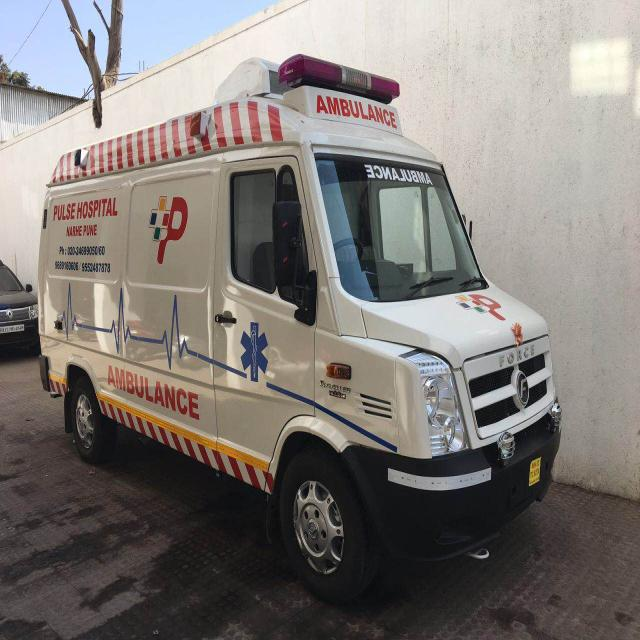ambulance: (31, 66, 584, 582)
